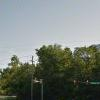Tree: (35, 39, 85, 90)
